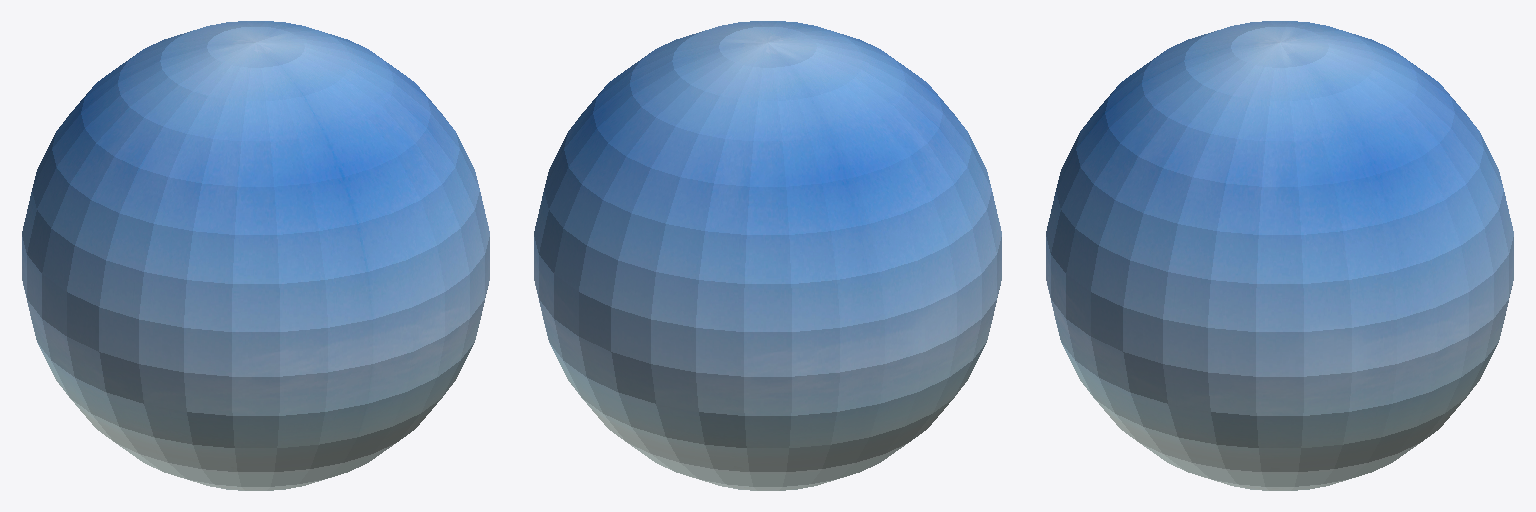
The picture shows the model from 3 angles: view 1: azimuth 30°, elevation 25°; view 2: azimuth 150°, elevation 25°; view 3: azimuth 270°, elevation 25°; orthographic projection.
Visible parts, largest first — view 1: Ball; view 2: Ball; view 3: Ball.
Boxes of the visible parts, box(x1,y1,x2,y2) form: Ball: box(22, 21, 489, 490); Ball: box(534, 21, 1001, 490); Ball: box(1046, 21, 1513, 490).
Bounding box in the file's own units: 0.9891 × 1 × 0.9945.
Materials: 2 (1 with a texture image).